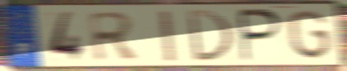4: (48, 9, 88, 65)
D: (185, 9, 237, 63)
G: (285, 9, 334, 61)
I: (156, 9, 178, 63)
P: (239, 8, 285, 64)
R: (87, 10, 143, 63)
